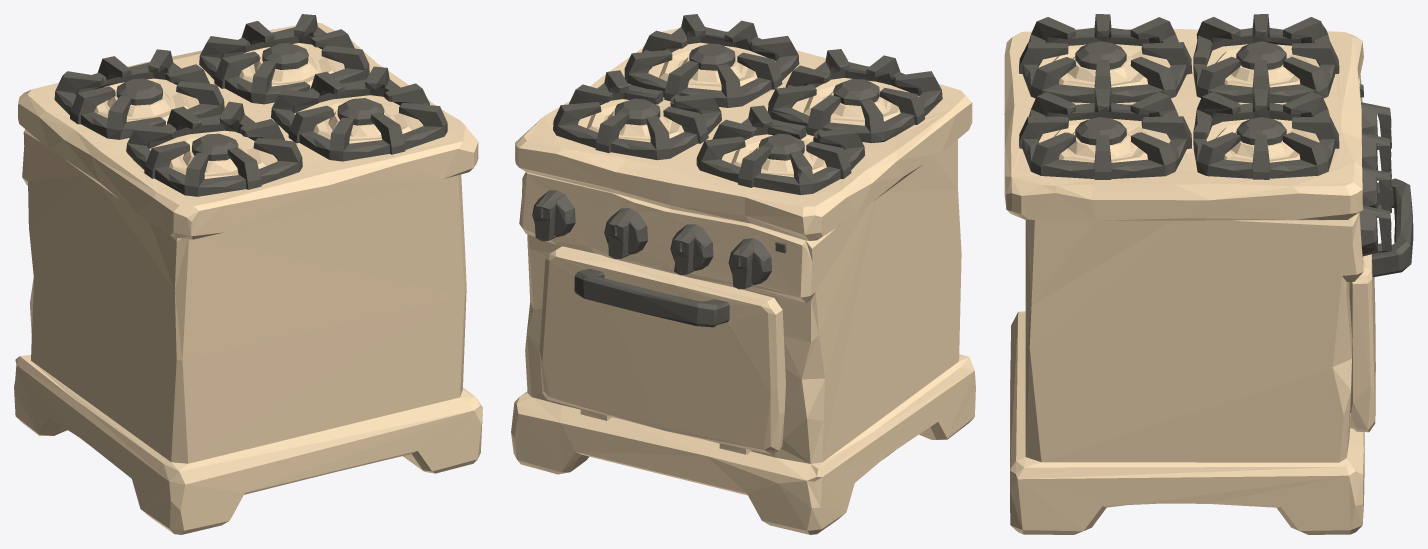
File: GasStove.fbx
3 views of the same model, side by side, from view 1: azimuth 30°, elevation 25°; view 2: azimuth 150°, elevation 25°; view 3: azimuth 270°, elevation 25° (orthographic). The views are drawn at different scales.
Parts seen in each view (by area): view 1: GasStove_Main; view 2: GasStove_Main, GasStove_Part1; view 3: GasStove_Main, GasStove_Part1.
Part boxes in pixels (x1,y1,x2,y2): GasStove_Main: [14, 14, 482, 534]; GasStove_Main: [511, 14, 975, 534]; GasStove_Part1: [539, 246, 785, 454]; GasStove_Main: [1004, 14, 1391, 534]; GasStove_Part1: [1349, 178, 1413, 432].
Bounding box in the file's own units: 0.6248 × 0.6655 × 0.6724.
